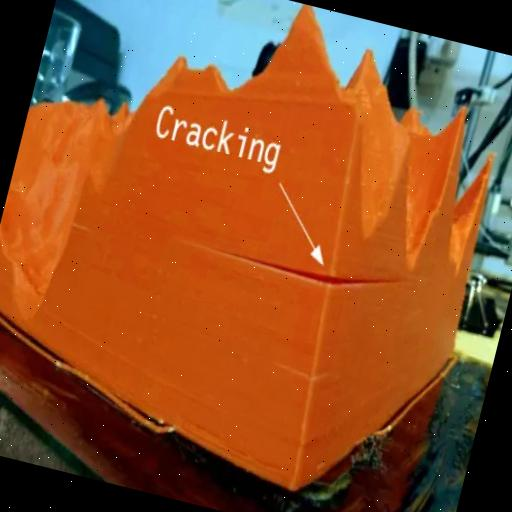cracks: (222, 232, 408, 328), (270, 352, 338, 399)
